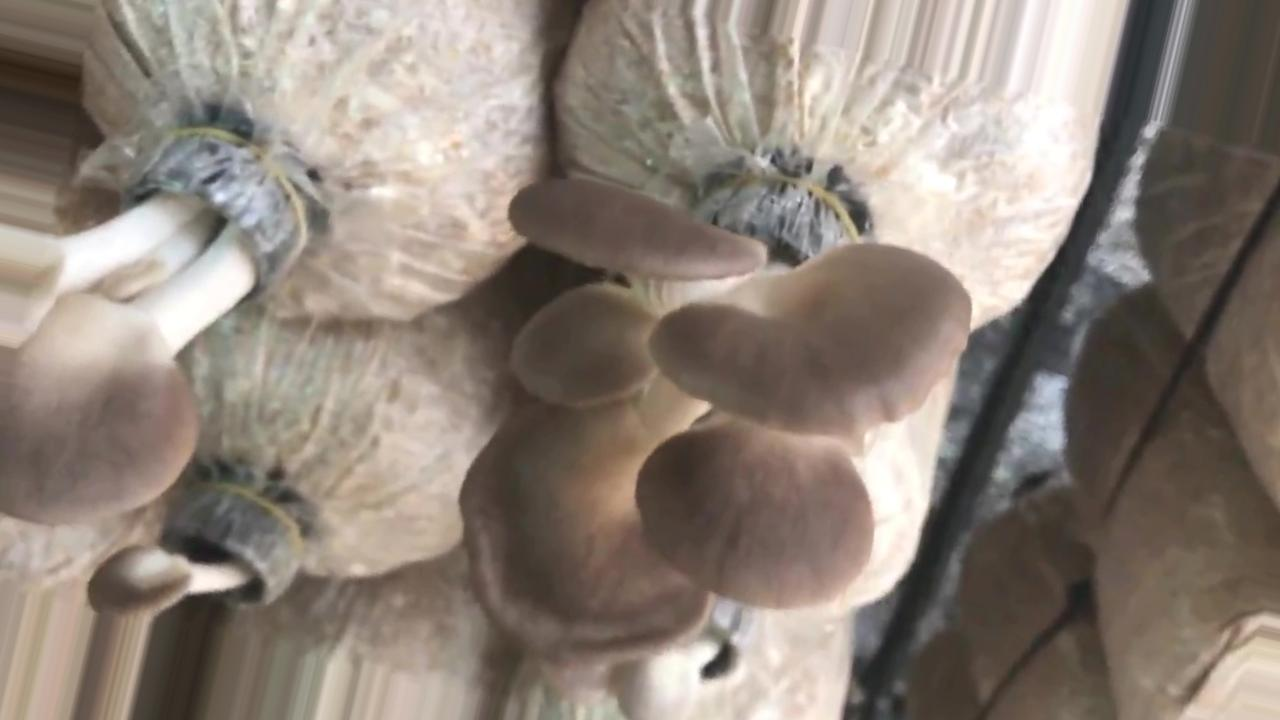nam: (460, 179, 970, 661), (1, 130, 302, 524), (88, 489, 295, 619)
